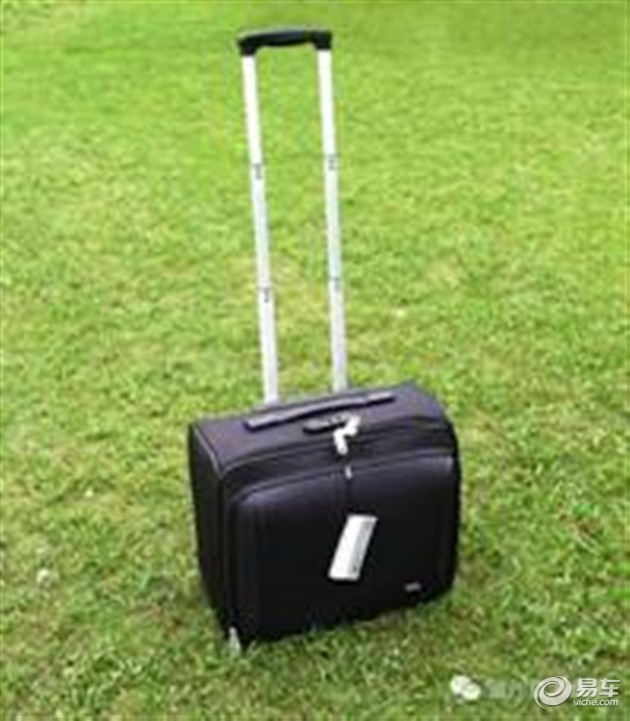luggage: (181, 28, 461, 643)
